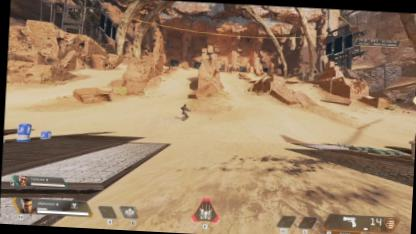Target: (180, 102, 188, 119)
